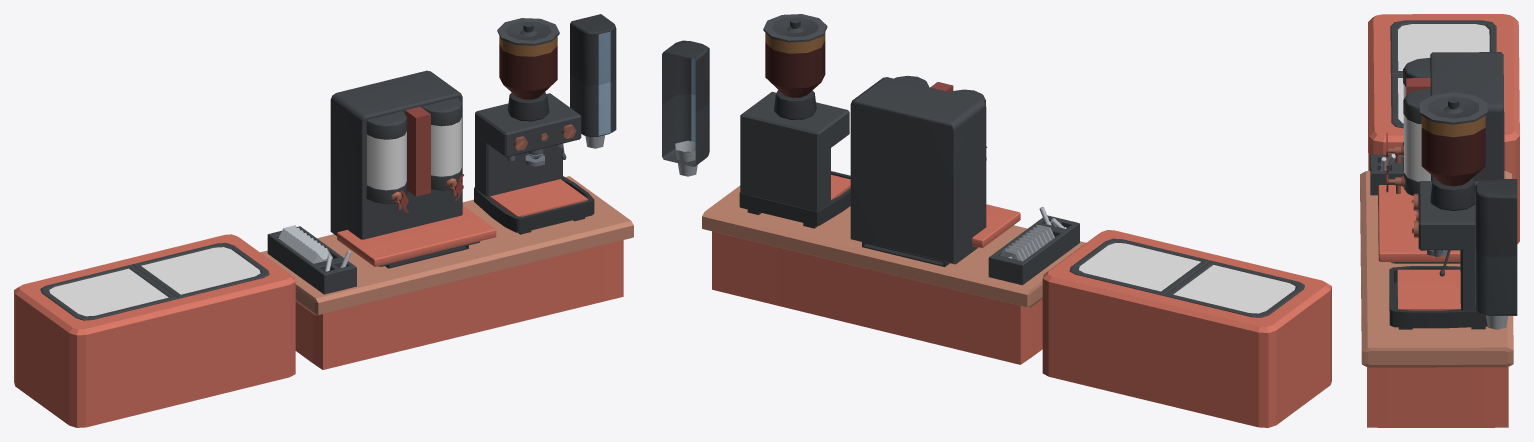
The model's file is SM_GameArea_BarCounter_01.fbx.
The picture shows the model from 3 angles, left to right: view 1: azimuth 30°, elevation 25°; view 2: azimuth 150°, elevation 25°; view 3: azimuth 270°, elevation 25°; orthographic projection. The views are drawn at different scales.
Visible parts, largest first — view 1: SM_GameArea_BarCounter_01; view 2: SM_GameArea_BarCounter_01; view 3: SM_GameArea_BarCounter_01.
Boxes of the visible parts, x1,y1,x2,y2 form: SM_GameArea_BarCounter_01: (14,14,633,427); SM_GameArea_BarCounter_01: (662,14,1331,427); SM_GameArea_BarCounter_01: (1360,14,1519,427).
Size of what is drawn, in the model's own units: 2063 by 858 by 421.
